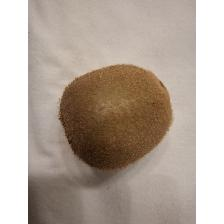Kiwi: (54, 58, 176, 172)
